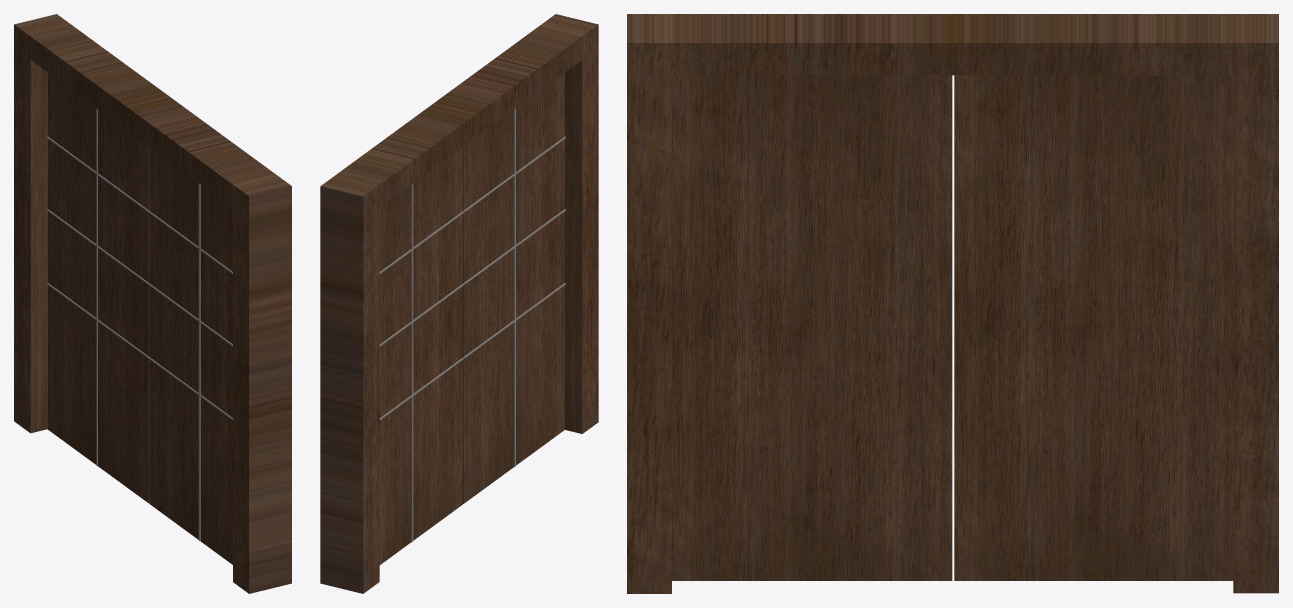
File: door.FBX
3 views of the same model, side by side, from view 1: azimuth 30°, elevation 25°; view 2: azimuth 150°, elevation 25°; view 3: azimuth 270°, elevation 25° (orthographic). The views are drawn at different scales.
Visible parts, largest first — view 1: wall003; view 2: wall003; view 3: wall003.
Part boxes in pixels (x1=…): wall003: x1=14, y1=14, x2=291, y2=593; wall003: x1=320, y1=14, x2=598, y2=593; wall003: x1=627, y1=14, x2=1278, y2=593.
Size of the model in its own units: 13 by 124 by 116.
